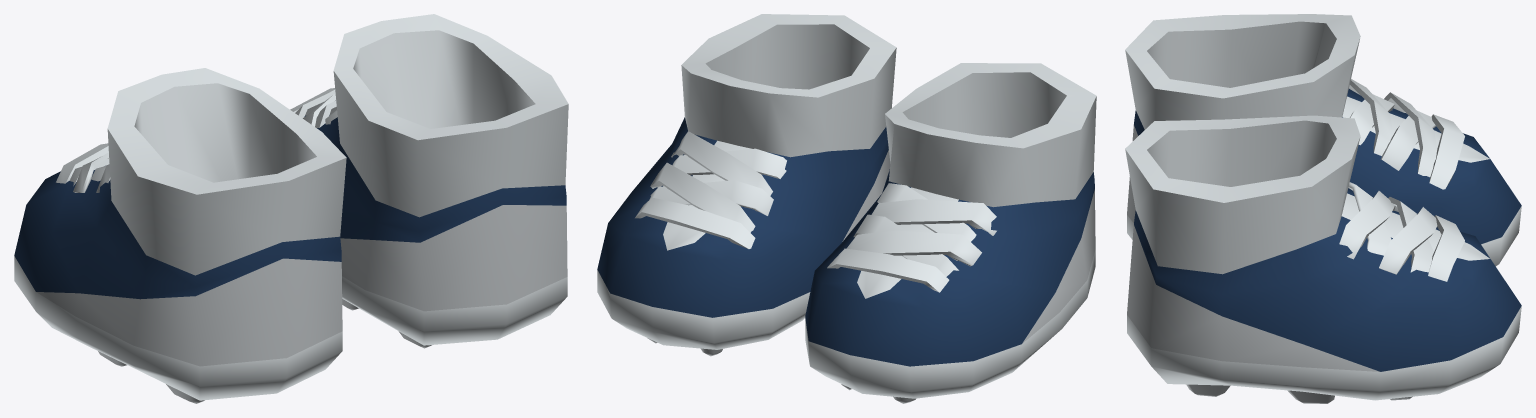
The model's file is Shoes_12.fbx.
3 views of the same model, side by side, from view 1: azimuth 30°, elevation 25°; view 2: azimuth 150°, elevation 25°; view 3: azimuth 270°, elevation 25° (orthographic). The views are drawn at different scales.
Visible parts, largest first — view 1: Shoes_12; view 2: Shoes_12; view 3: Shoes_12.
Part boxes in pixels (x1,y1,x2,y2): Shoes_12: (14,14,568,403); Shoes_12: (597,14,1096,403); Shoes_12: (1125,14,1521,403).
Size of the model in its own units: 41.77 by 22.26 by 34.01.
